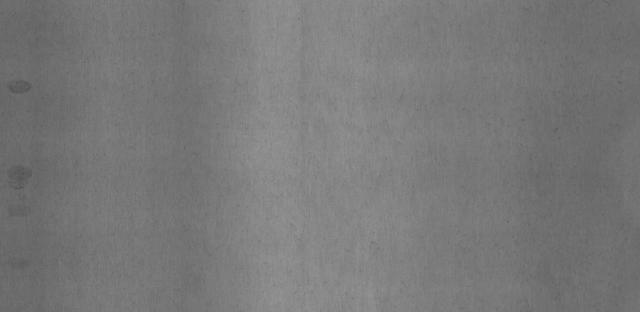oil_spot: (0, 164, 38, 220), (2, 79, 36, 97)
